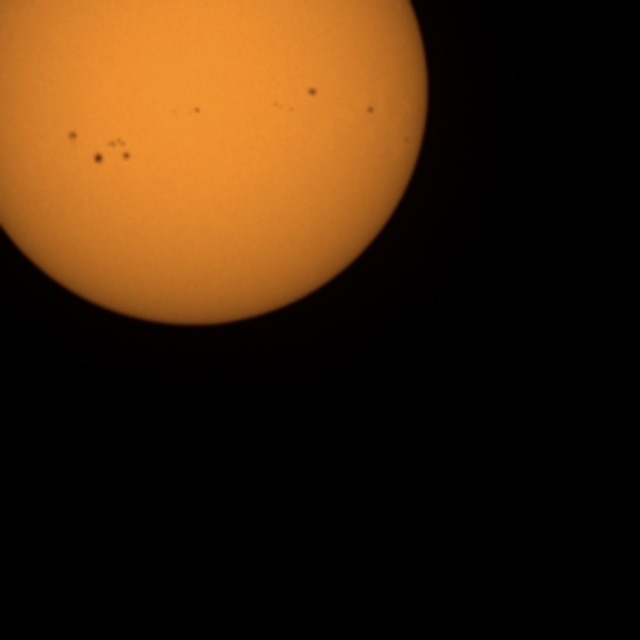sunspot: (105, 133, 138, 163), (272, 100, 296, 114), (66, 129, 79, 144), (92, 151, 104, 166), (306, 86, 319, 99), (188, 106, 202, 116), (272, 100, 284, 111), (365, 105, 376, 116), (171, 107, 179, 115), (403, 136, 410, 145)
